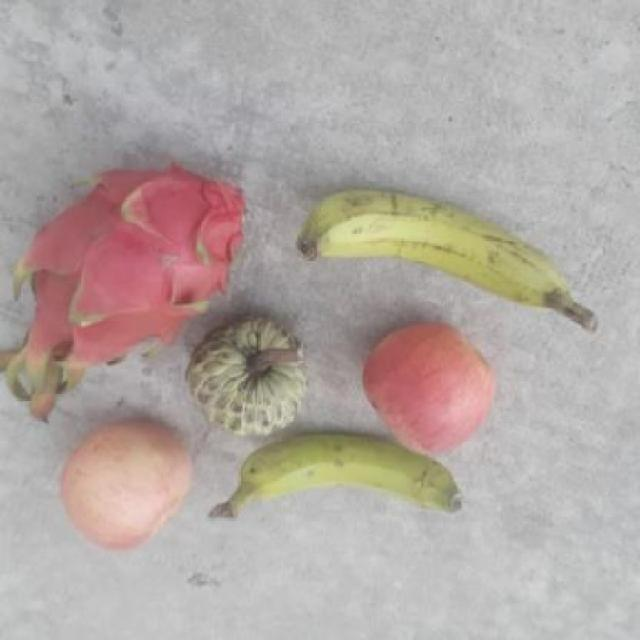apple: (361, 323, 497, 457), (54, 421, 194, 550)
banana: (294, 186, 601, 334), (203, 433, 465, 521)
dragon fruit: (19, 167, 248, 365)
sugar apple: (185, 315, 309, 437)
